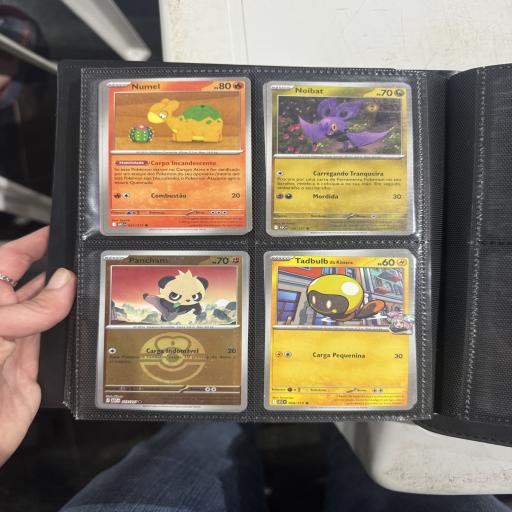card: (96, 246, 251, 411), (263, 251, 414, 412), (101, 77, 253, 234), (265, 81, 416, 238)
